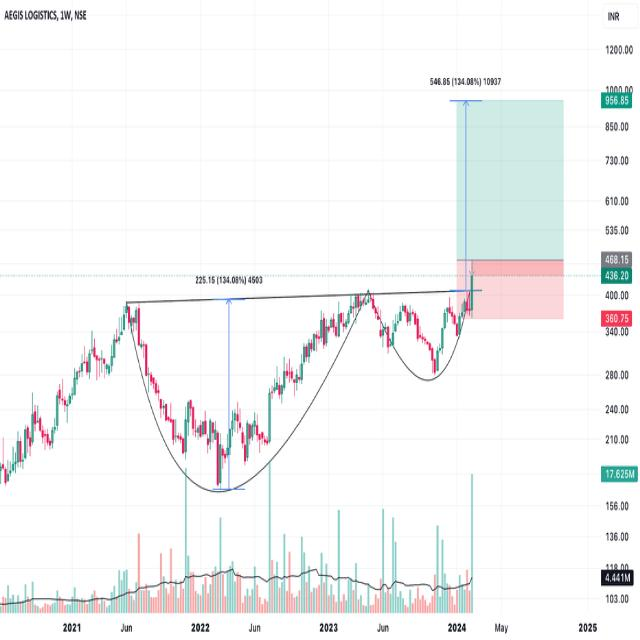Cup-and-handle: (122, 300, 480, 484)
